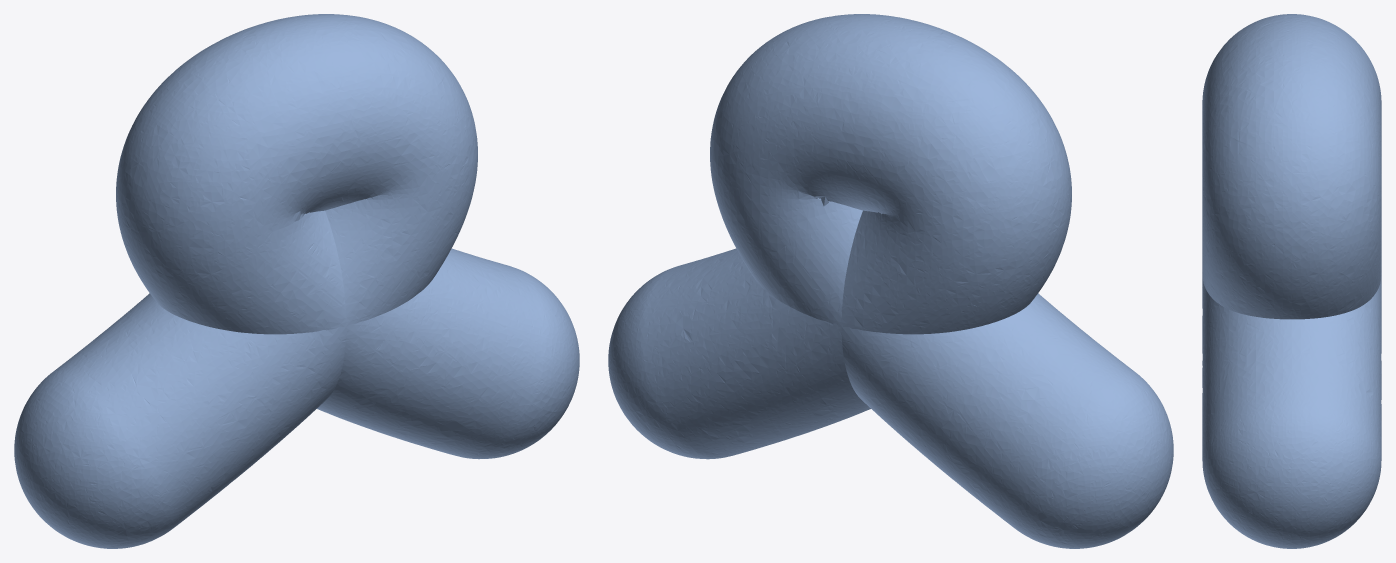
File: sphereLoopDLoop_col.obj
The picture shows the model from 3 angles, left to right: view 1: azimuth 30°, elevation 25°; view 2: azimuth 150°, elevation 25°; view 3: azimuth 270°, elevation 25°; orthographic projection. The views are drawn at different scales.
Size of the model in its own units: 0.9767 by 0.8099 by 0.31.
